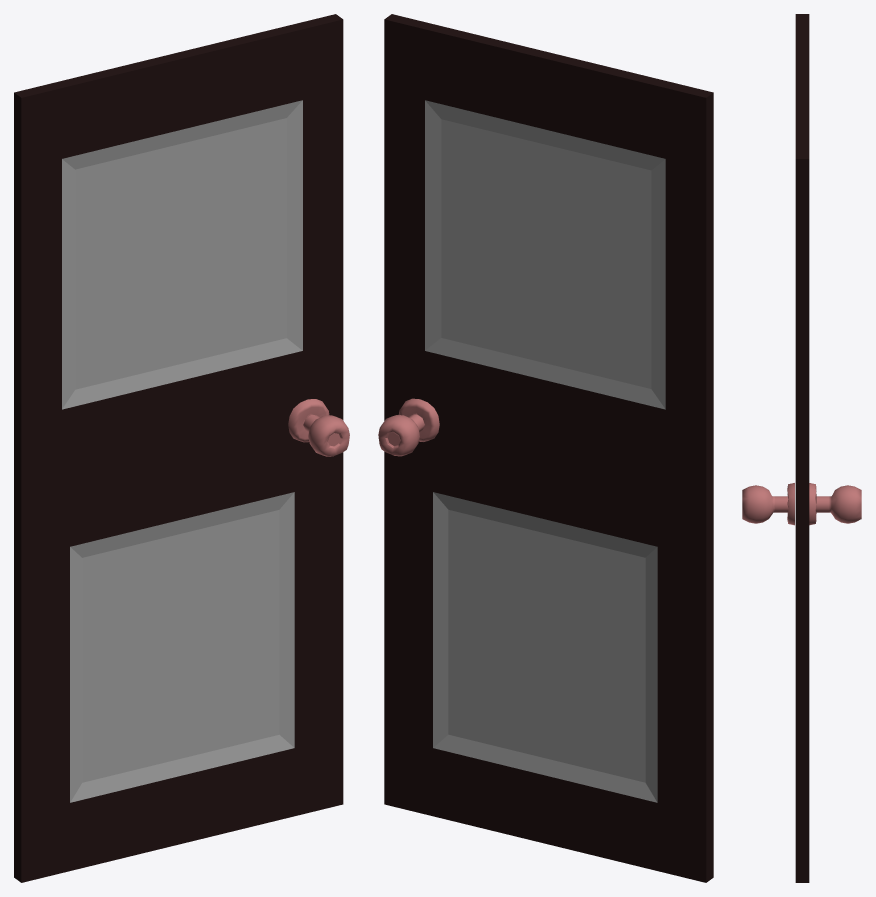
File: Puerta.fbx
The picture shows the model from 3 angles, left to right: view 1: azimuth 30°, elevation 25°; view 2: azimuth 150°, elevation 25°; view 3: azimuth 270°, elevation 25°; orthographic projection. The views are drawn at different scales.
Parts seen in each view (by area): view 1: polySurface11; view 2: polySurface11; view 3: polySurface11.
Boxes of the visible parts, <box> form: polySurface11: <box>14,14,349,882</box>; polySurface11: <box>378,14,713,882</box>; polySurface11: <box>742,14,861,882</box>.
Bounding box in the file's own units: 90.24 × 210 × 31.38.
